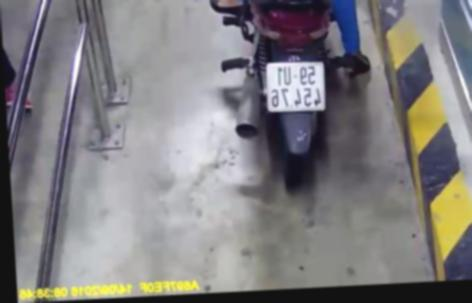License_Plate: (257, 56, 334, 119)
